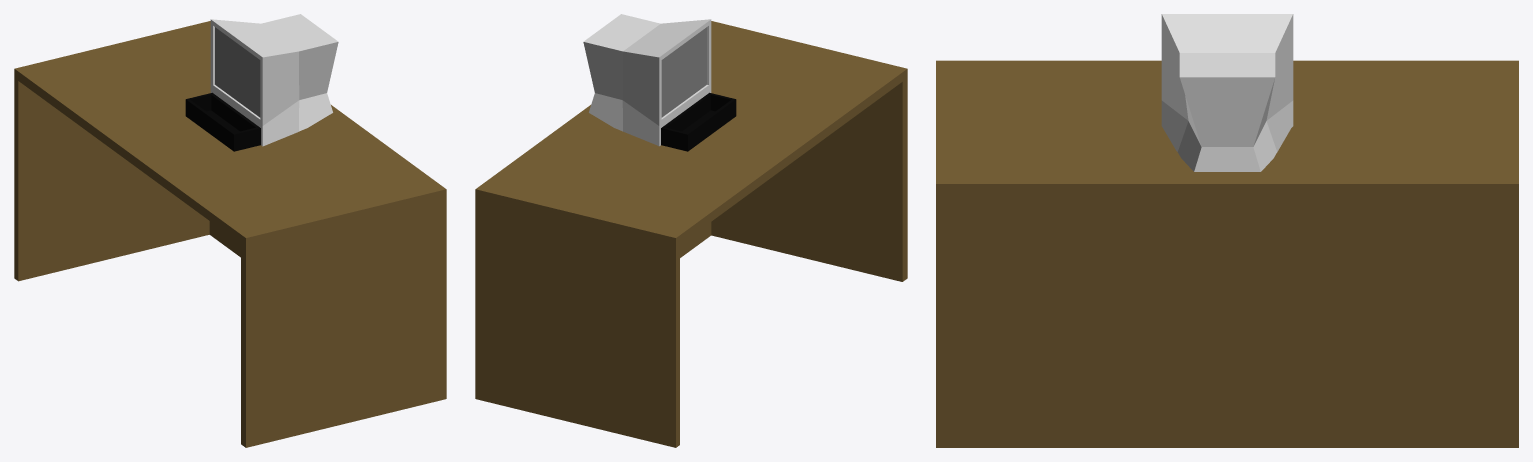
Rendered from CashBox.fbx.
The picture shows the model from 3 angles, left to right: view 1: azimuth 30°, elevation 25°; view 2: azimuth 150°, elevation 25°; view 3: azimuth 270°, elevation 25°; orthographic projection. The views are drawn at different scales.
Visible parts, largest first — view 1: Table, Computer; view 2: Table, Computer; view 3: Table, Computer.
Part boxes in pixels (x1,y1,x2,y2): Table: (14, 21, 446, 447); Computer: (185, 14, 338, 151); Table: (475, 21, 907, 447); Computer: (583, 14, 736, 151); Table: (936, 60, 1518, 447); Computer: (1161, 14, 1293, 171).
Bounding box in the file's own units: 200 × 285 × 400.
